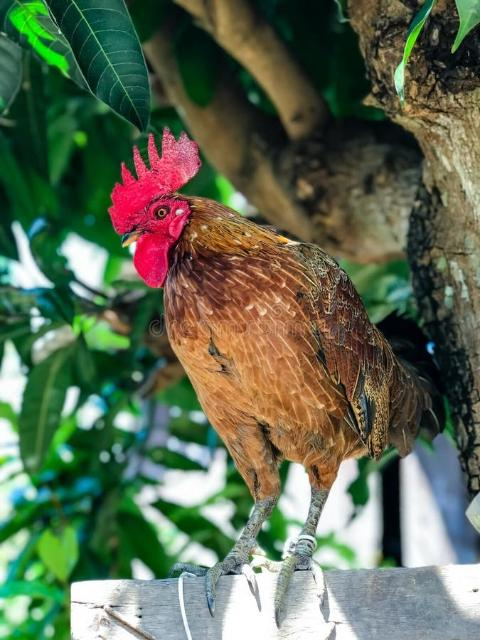Chicken: (108, 123, 448, 622)
